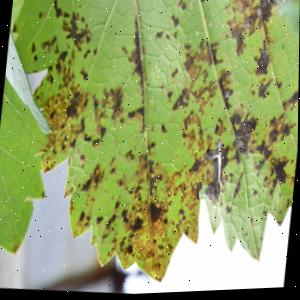Folha: (0, 0, 300, 300)
Fungo: (133, 171, 173, 275), (125, 109, 152, 201), (197, 140, 232, 209), (123, 39, 151, 117), (226, 111, 259, 163), (30, 152, 74, 189), (48, 55, 89, 94), (59, 10, 94, 54), (229, 0, 267, 37), (271, 105, 299, 152), (262, 0, 300, 34), (175, 160, 200, 209), (89, 92, 118, 130), (223, 18, 248, 61), (107, 204, 141, 235), (194, 178, 222, 215), (187, 25, 211, 68), (52, 95, 79, 133), (75, 165, 101, 204), (186, 64, 207, 108), (201, 81, 228, 115), (173, 211, 195, 252), (179, 139, 201, 180), (217, 144, 249, 171), (253, 7, 300, 22), (252, 43, 271, 80), (270, 169, 292, 200), (78, 214, 102, 241), (268, 137, 282, 178), (172, 88, 191, 114), (203, 183, 221, 208), (257, 79, 272, 103), (246, 186, 262, 207), (233, 173, 243, 202), (51, 0, 63, 20), (295, 56, 299, 93), (169, 16, 179, 30), (176, 0, 186, 13), (170, 69, 178, 83), (154, 31, 163, 43), (165, 92, 172, 105), (120, 47, 128, 57), (82, 50, 89, 61), (183, 45, 191, 54), (195, 0, 206, 6), (164, 36, 170, 43)
